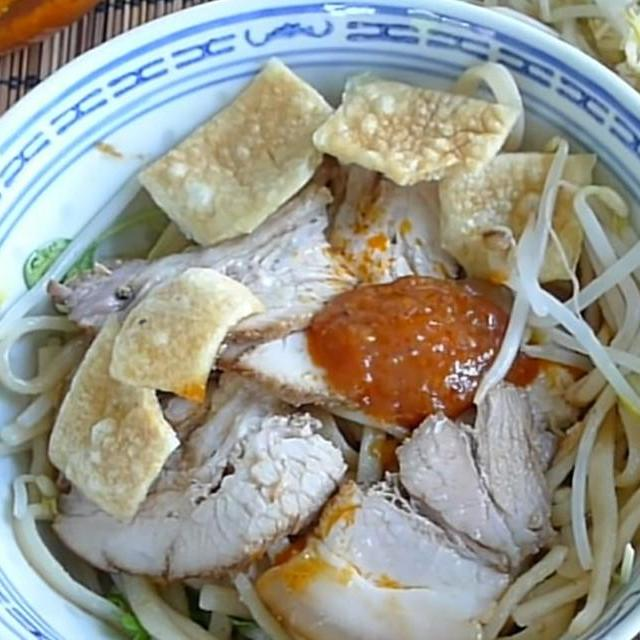banh da: (134, 50, 341, 254), (42, 306, 184, 527), (306, 67, 524, 191), (104, 264, 269, 408), (433, 147, 599, 289)
mi: (474, 353, 640, 640), (0, 313, 91, 511), (102, 564, 312, 640)
thit heo: (249, 354, 593, 640), (45, 352, 353, 584), (212, 154, 463, 415), (41, 173, 364, 351)
